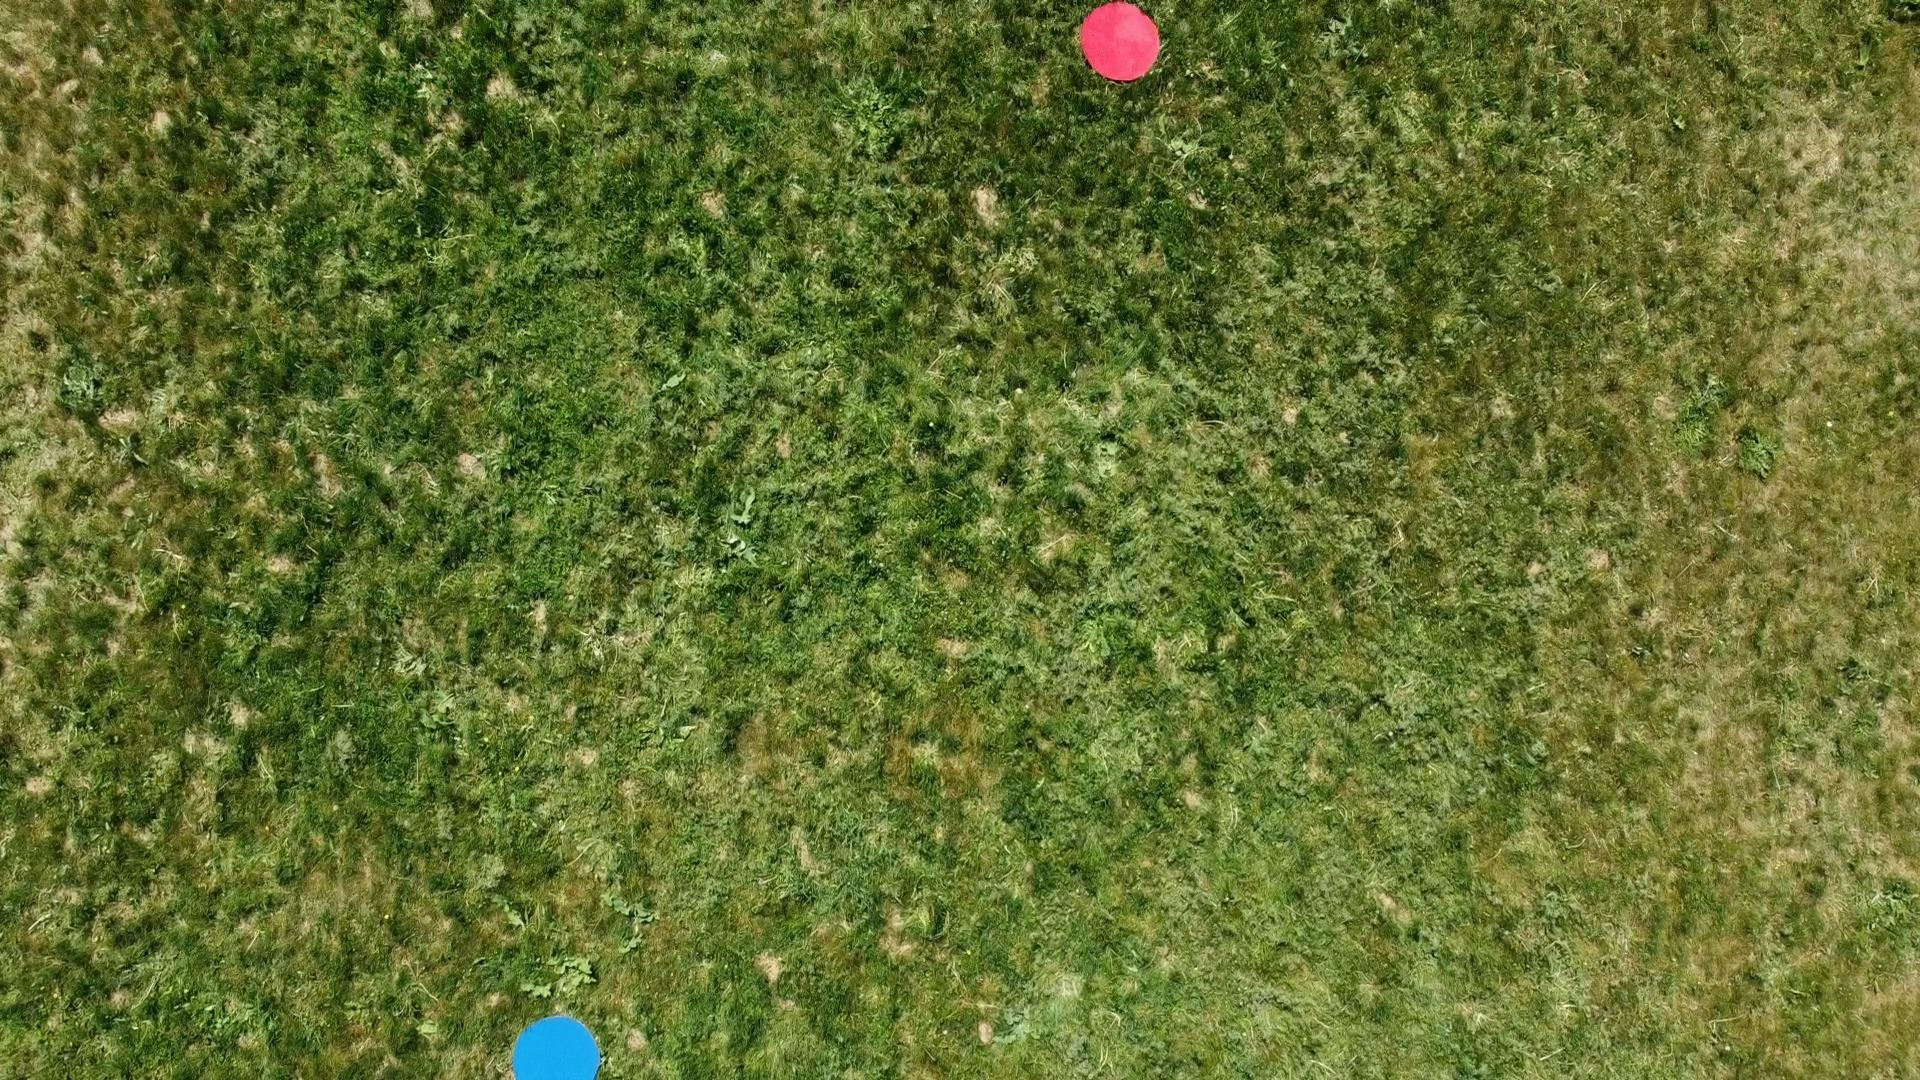Blue: (506, 1013, 605, 1080)
Red: (1077, 0, 1166, 87)
